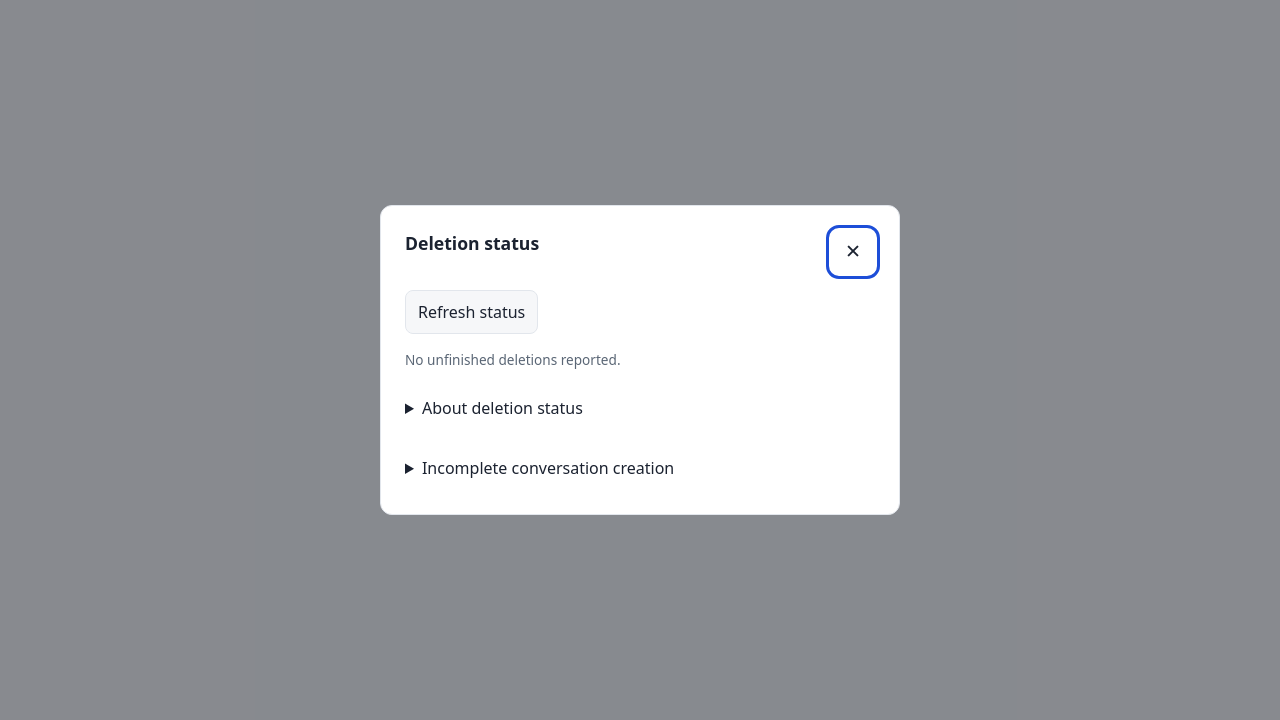
incomplete conversation creation recovery › shows malformed missing observation as an error, not an empty observation
Click the heading "Incomplete conversation creation" at point(548, 468), box [422,457,674,479]
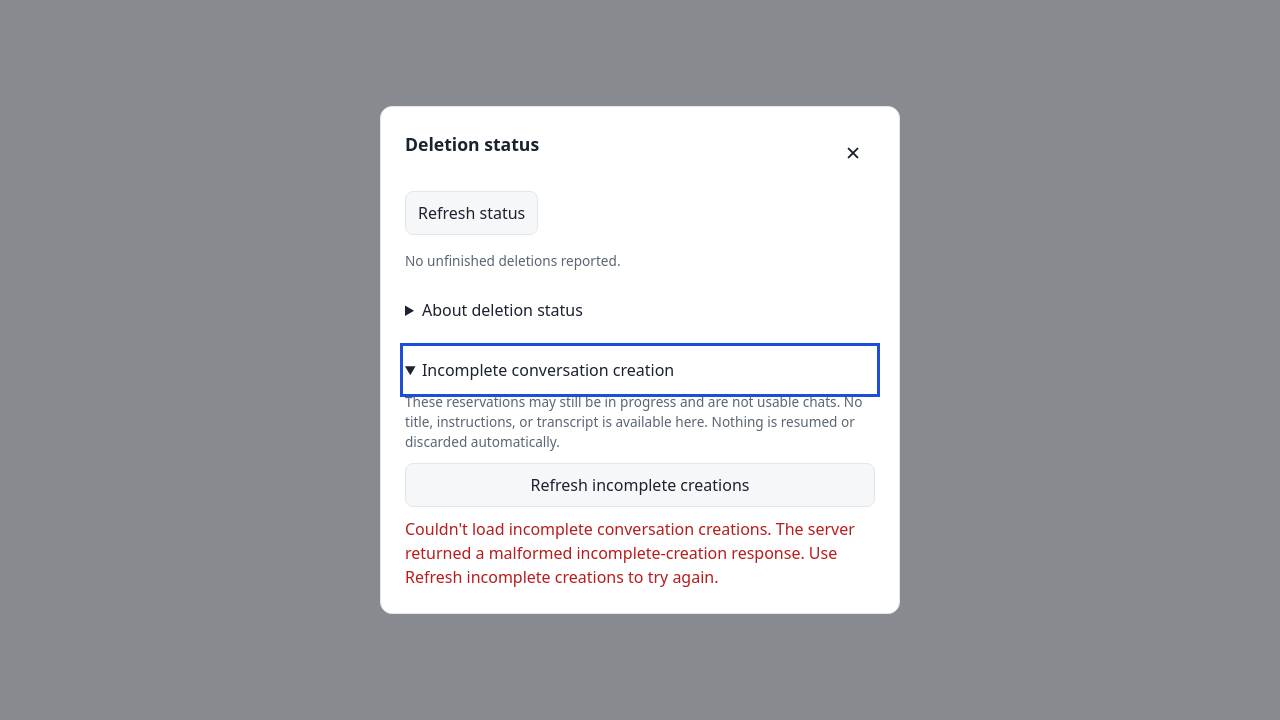
Expected: the text "No incomplete creations reported" is not shown
Result: the 2nd message shows "malformed incomplete-creation response" at [405,518,855,588]
Click the button "Refresh incomplete creations" at point(640, 485), box [405,463,875,507]
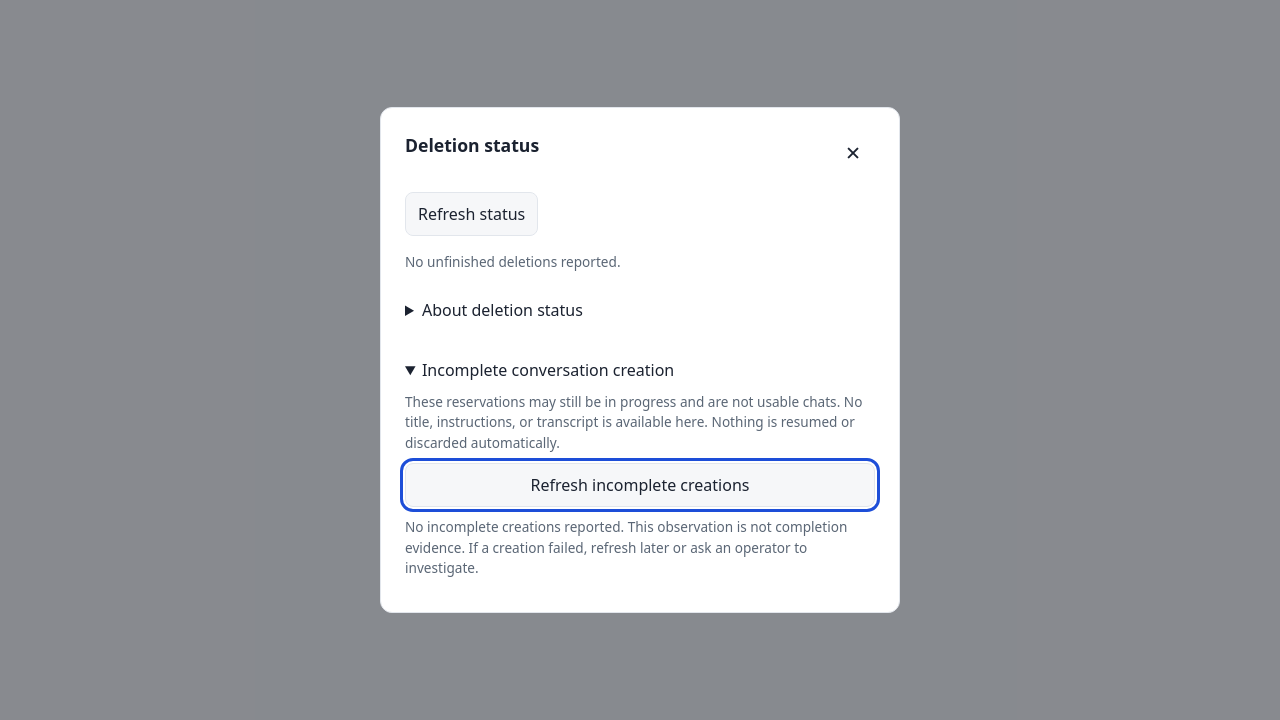
Result: the text "No incomplete creations reported" shows "not completion evidence" at [405,517,847,577]
